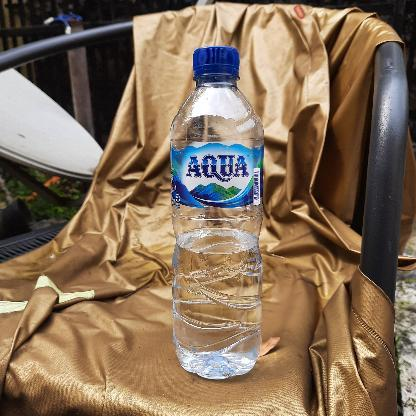Plastic Bottle: (170, 43, 268, 380)
